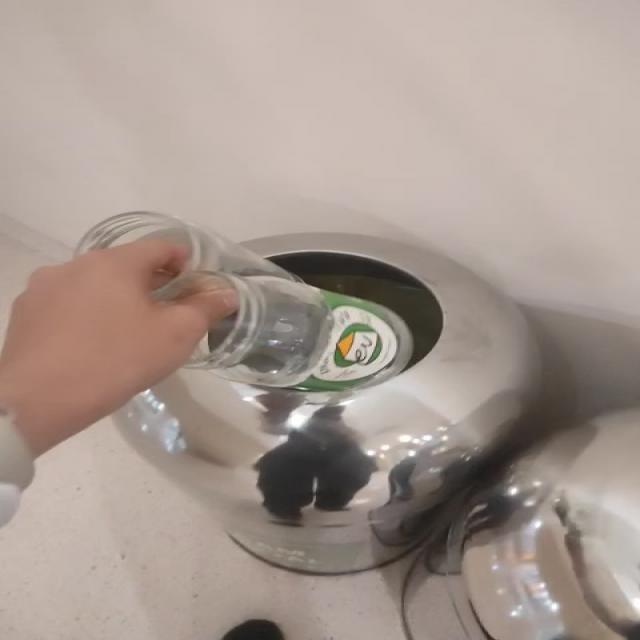glass: (75, 212, 413, 400)
